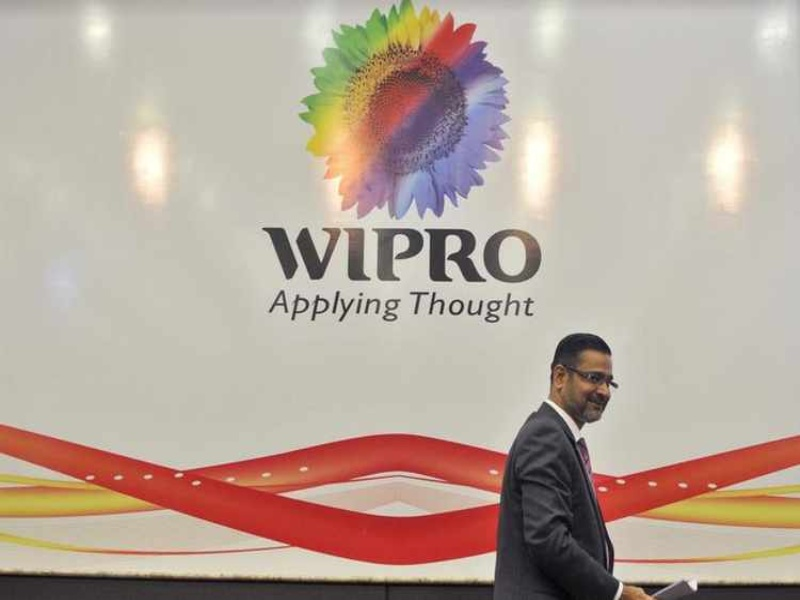wipro: (296, 5, 518, 221)
